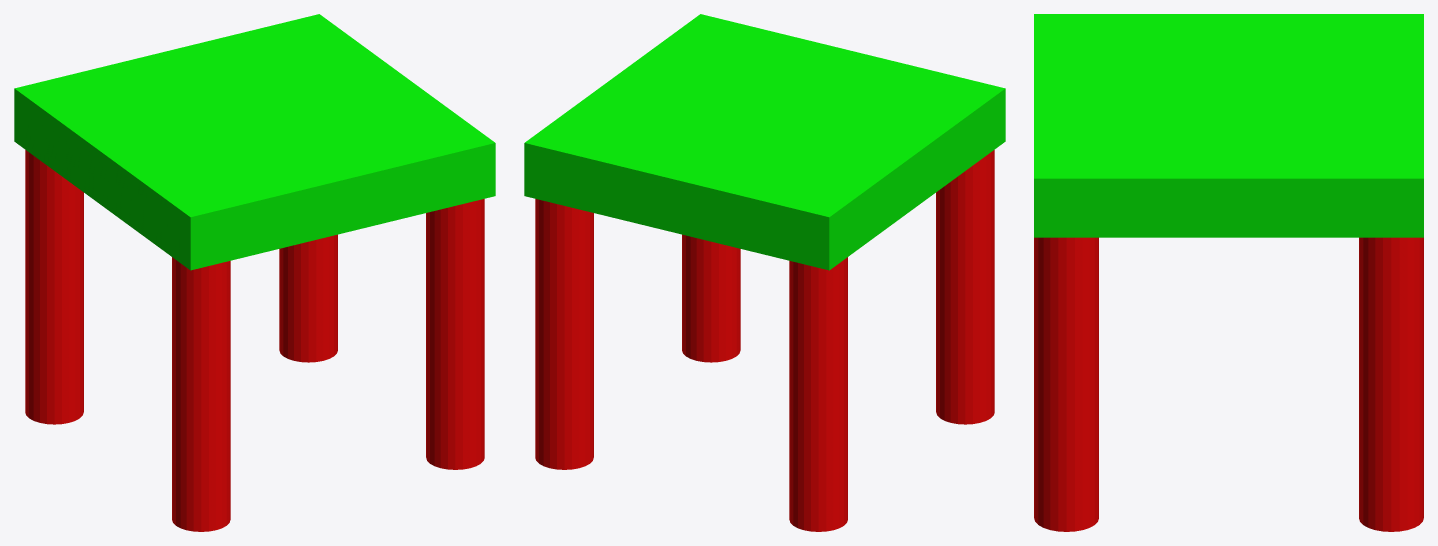
Rendered from Prototype.glb.
3 renders of one model, left to right at view 1: azimuth 30°, elevation 25°; view 2: azimuth 150°, elevation 25°; view 3: azimuth 270°, elevation 25°, orthographic. The views are drawn at different scales.
Visible parts, largest first — view 1: mesh (×5); view 2: mesh (×5); view 3: mesh (×3).
Boxes of the visible parts, box(x1,y1,x2,y2) form: mesh (×5): box(14, 14, 495, 531); mesh (×5): box(524, 14, 1005, 531); mesh (×3): box(1034, 14, 1423, 531).
Bounding box in the file's own units: 1.2 × 1.2 × 1.2.
